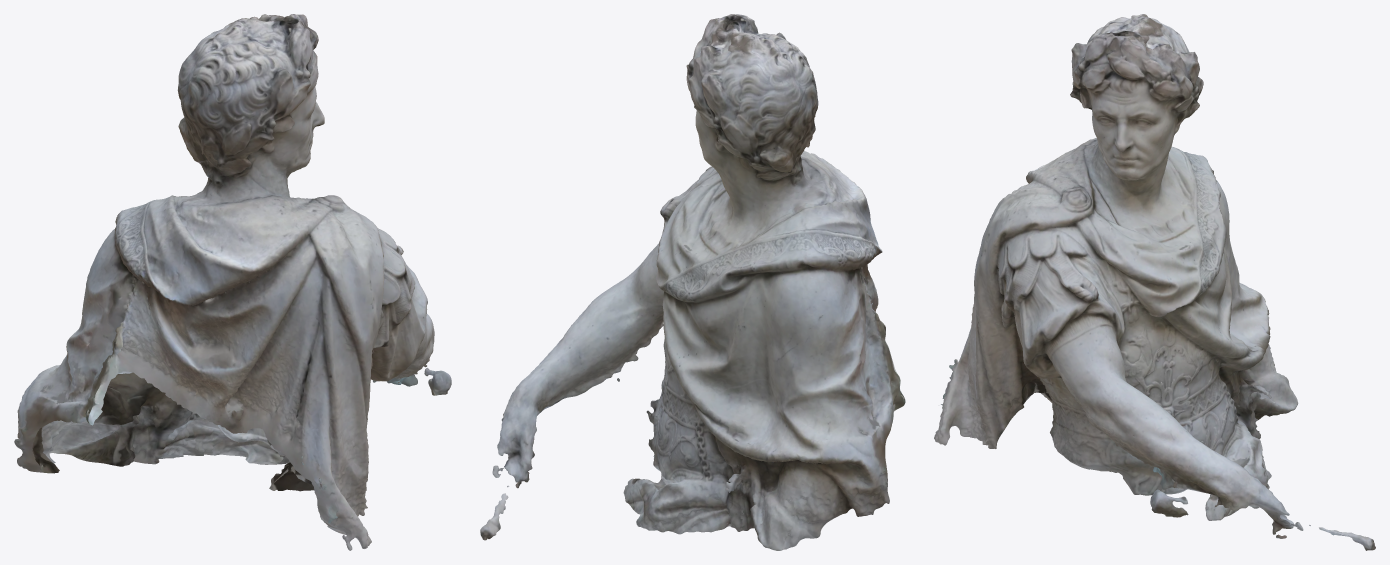
Rendered from cesar.glb.
3 renders of one model, left to right at view 1: azimuth 30°, elevation 25°; view 2: azimuth 150°, elevation 25°; view 3: azimuth 270°, elevation 25°, orthographic. The views are drawn at different scales.
Visible parts, largest first — view 1: Object_3; view 2: Object_3; view 3: Object_3.
Boxes of the visible parts, x1,y1,x2,y2 form: Object_3: (14, 14, 451, 550); Object_3: (480, 14, 905, 550); Object_3: (934, 14, 1375, 550).
Size of the model in its own units: 0.8101 by 0.9579 by 0.8273.
1 material, 1 textured.
